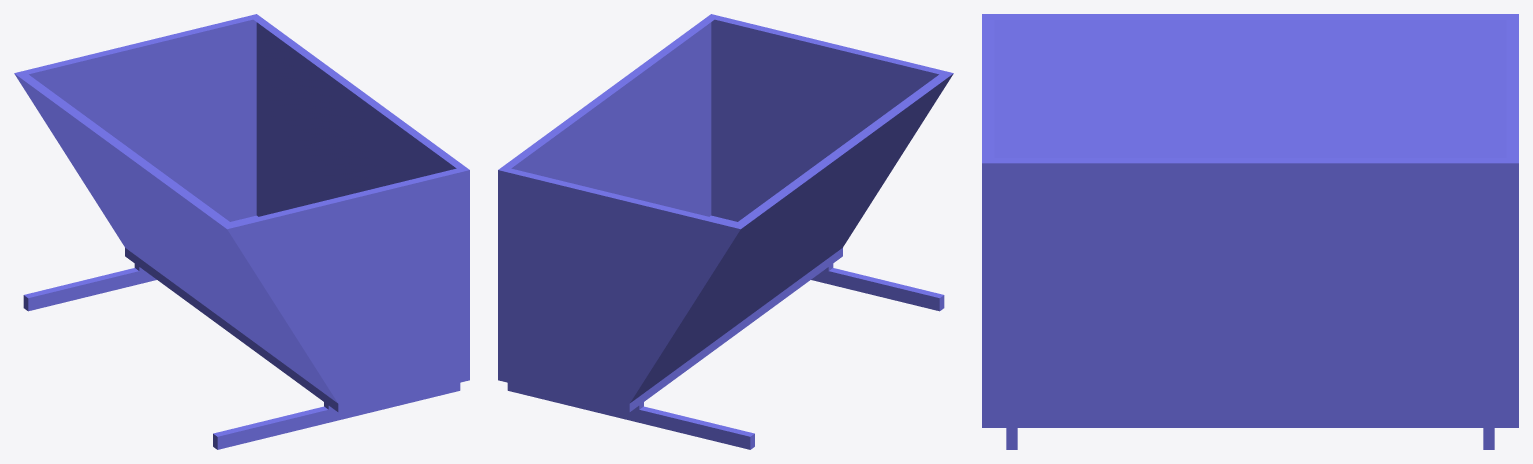
File: bleue 2.2.glb
3 views of the same model, side by side, from view 1: azimuth 30°, elevation 25°; view 2: azimuth 150°, elevation 25°; view 3: azimuth 270°, elevation 25° (orthographic). The views are drawn at different scales.
Parts seen in each view (by area): view 1: imagetostl_mesh3, imagetostl_mesh21, imagetostl_mesh0, imagetostl_mesh2, imagetostl_mesh1, imagetostl_mesh18, imagetostl_mesh30, imagetostl_mesh14, imagetostl_mesh29, imagetostl_mesh11, imagetostl_mesh9; view 2: imagetostl_mesh21, imagetostl_mesh3, imagetostl_mesh0, imagetostl_mesh2, imagetostl_mesh1, imagetostl_mesh16, imagetostl_mesh30, imagetostl_mesh17, imagetostl_mesh31, imagetostl_mesh9, imagetostl_mesh11; view 3: imagetostl_mesh2, imagetostl_mesh0, imagetostl_mesh1, imagetostl_mesh33.
Part boxes in pixels (x1,y1,x2,y2): imagetostl_mesh3: (227, 170, 469, 403); imagetostl_mesh21: (29, 19, 256, 221); imagetostl_mesh0: (14, 74, 337, 402); imagetostl_mesh2: (256, 22, 456, 216); imagetostl_mesh1: (14, 14, 469, 229); imagetostl_mesh18: (217, 383, 460, 449); imagetostl_mesh30: (125, 248, 338, 411); imagetostl_mesh14: (28, 267, 156, 311); imagetostl_mesh29: (338, 371, 469, 412); imagetostl_mesh11: (213, 406, 328, 436); imagetostl_mesh9: (24, 268, 138, 298); imagetostl_mesh21: (498, 170, 740, 403); imagetostl_mesh3: (711, 19, 938, 221); imagetostl_mesh0: (630, 74, 953, 402); imagetostl_mesh2: (511, 22, 711, 216); imagetostl_mesh1: (498, 14, 953, 229); imagetostl_mesh16: (507, 383, 750, 449); imagetostl_mesh30: (629, 248, 842, 411); imagetostl_mesh17: (811, 267, 939, 311); imagetostl_mesh31: (498, 371, 629, 412); imagetostl_mesh9: (639, 406, 754, 436); imagetostl_mesh11: (829, 268, 943, 298); imagetostl_mesh2: (982, 163, 1518, 416); imagetostl_mesh0: (994, 20, 1506, 157); imagetostl_mesh1: (982, 14, 1518, 163); imagetostl_mesh33: (982, 417, 1518, 427).
Bounding box in the file's own units: 57.09 × 51.18 × 86.81.
